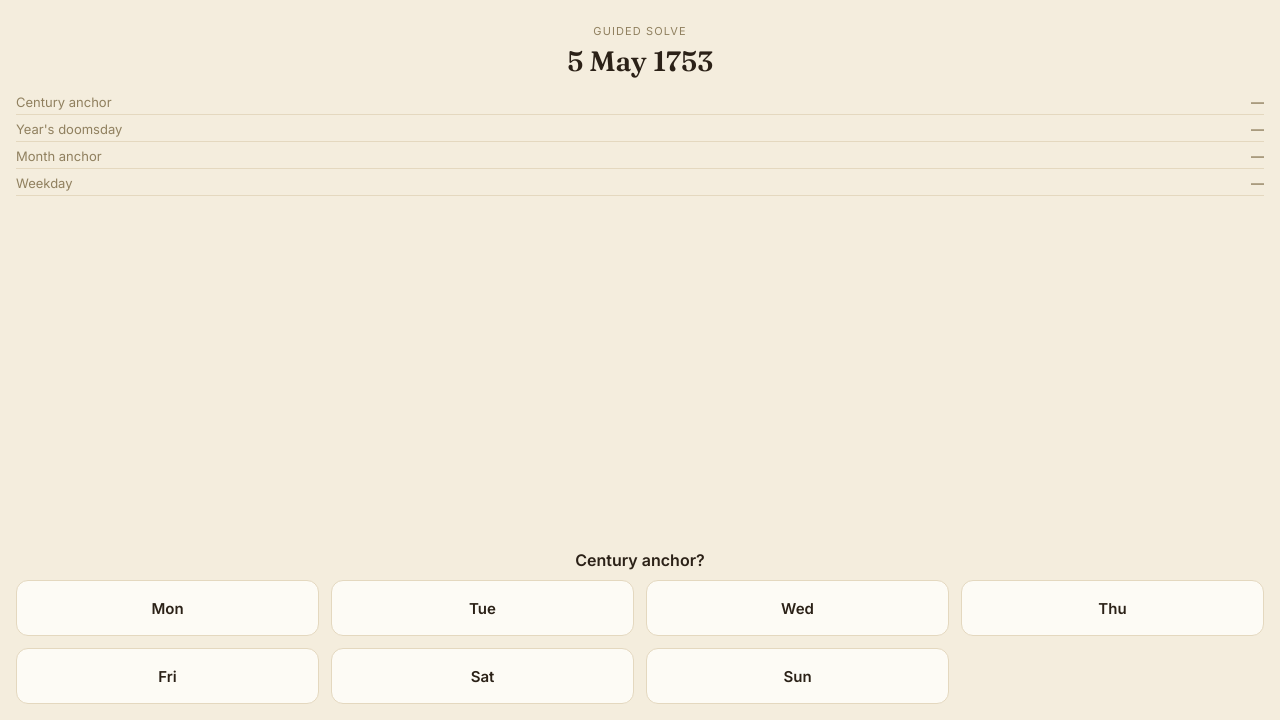
Test: GuidedSolve › immediately flags a correct century anchor with ✓ before completing the solve
Click the button with aria-label "Sunday" at [798, 676], box x1=646 y1=648 x2=949 y2=704
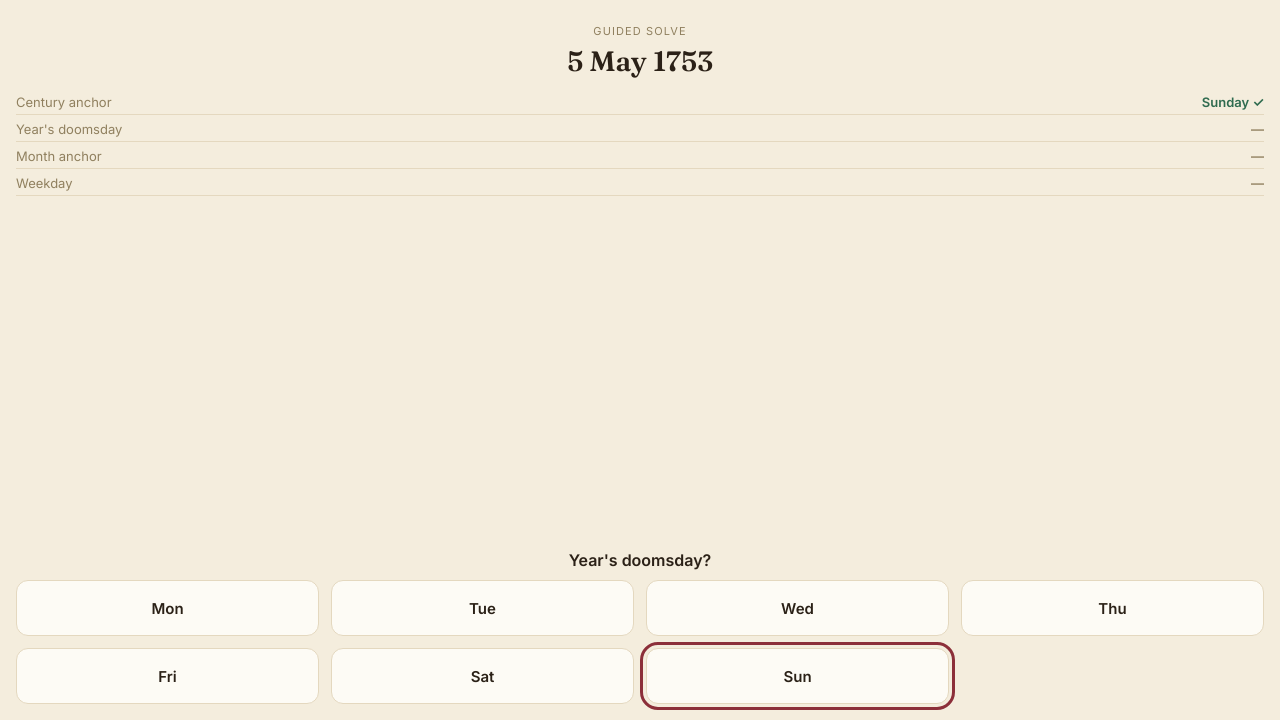
Expected: the text "Year's doomsday?" is shown, x1=569 y1=550 x2=711 y2=570
